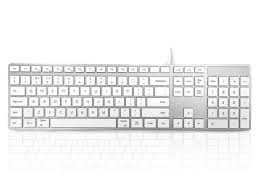keyboard: (4, 62, 258, 136)
